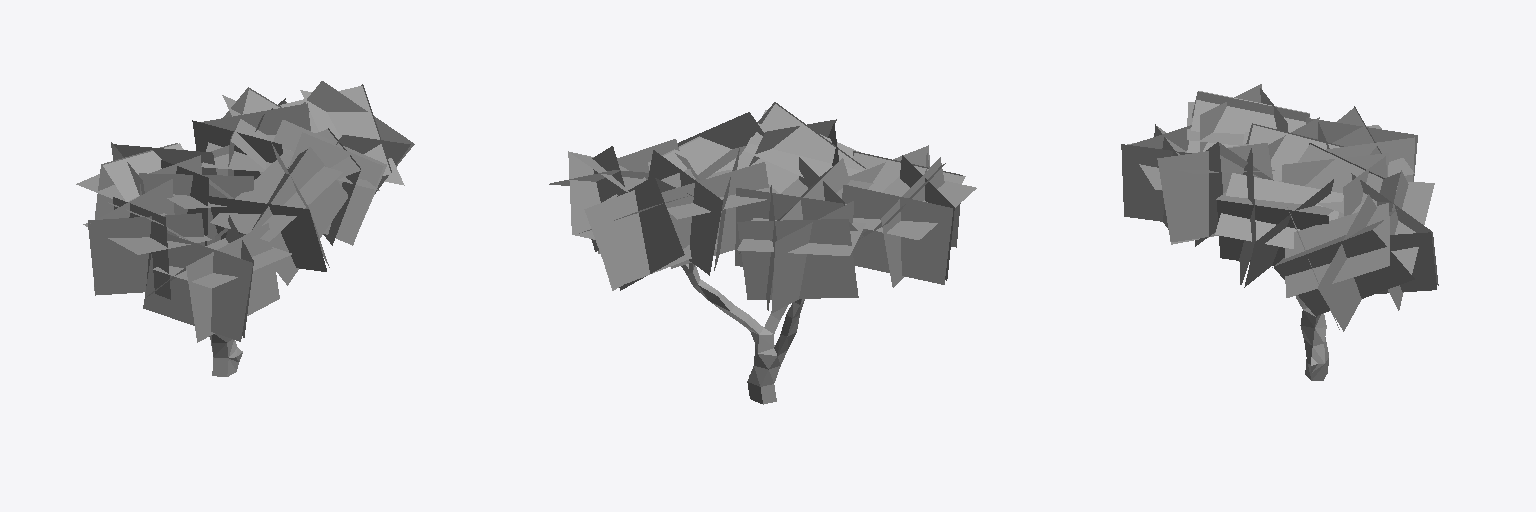
File: acaciaTree.obj
The picture shows the model from 3 angles: view 1: azimuth 30°, elevation 25°; view 2: azimuth 150°, elevation 25°; view 3: azimuth 270°, elevation 25°; orthographic projection.
Visible parts, largest first — view 1: mesh1, mesh0; view 2: mesh1, mesh0; view 3: mesh1, mesh0.
Part boxes in pixels (x1,y1,x2,y2): mesh1: (76, 81, 414, 342); mesh0: (209, 228, 242, 376); mesh1: (549, 102, 976, 313); mesh0: (681, 263, 804, 404); mesh1: (1121, 84, 1438, 331); mesh0: (1296, 295, 1328, 380).
Bounding box in the file's own units: 238 × 162 × 184.